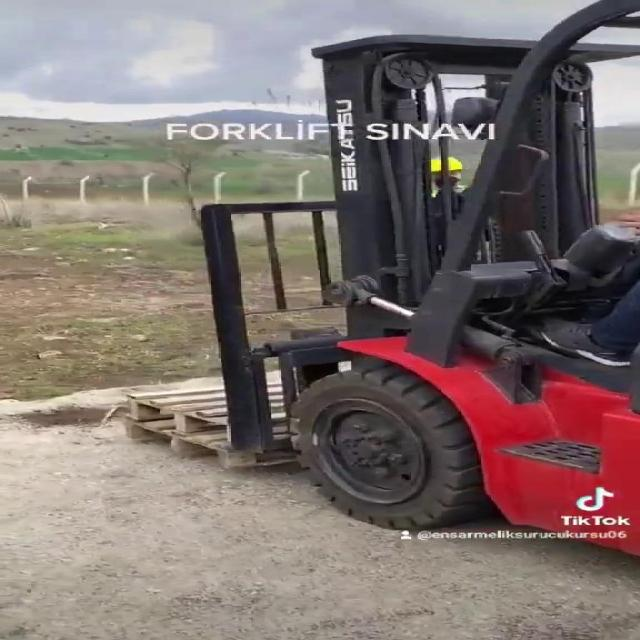forklift: (182, 32, 640, 572)
